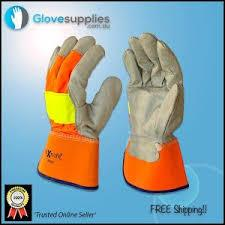gloves: (36, 34, 122, 192), (122, 33, 190, 195)
